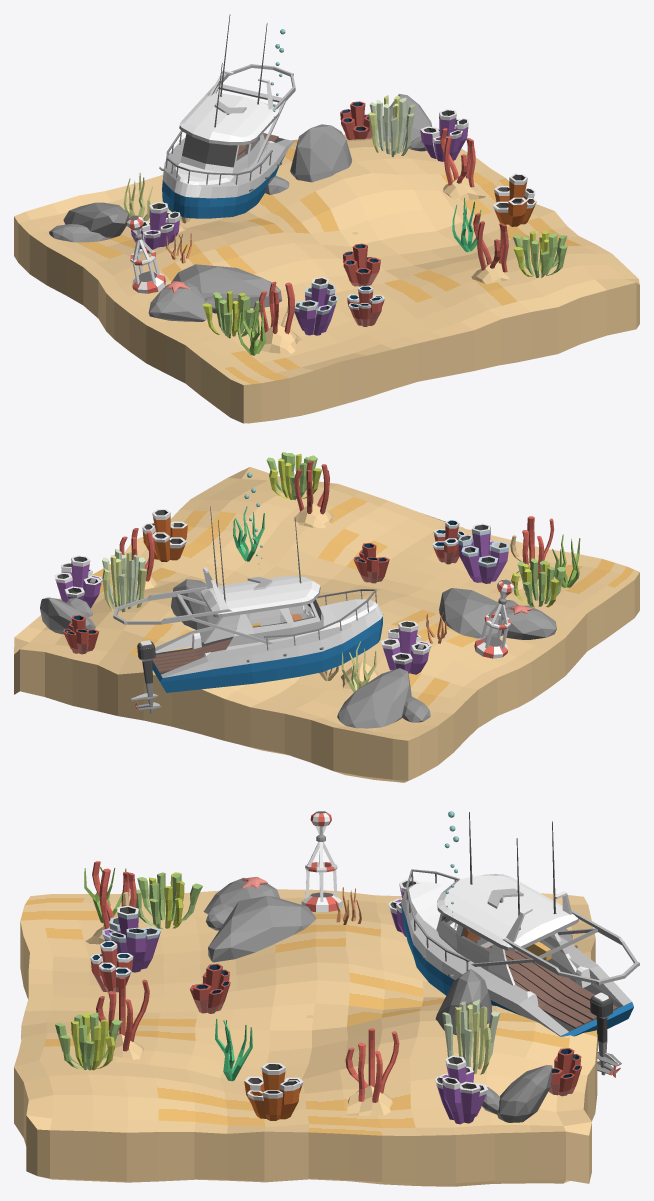
The model's file is land_seabed.fbx.
3 renders of one model, top to bottom at view 1: azimuth 30°, elevation 25°; view 2: azimuth 150°, elevation 25°; view 3: azimuth 270°, elevation 25°, orthographic. The views are drawn at different scales.
Visible parts, largest first — view 1: Ocean_Plane.036, Boat_Plane.013, Ocean_Plane.002, Ocean_Plane.004, Ocean_Plane.005, Cylinder_Cylinder.017; view 2: Ocean_Plane.036, Boat_Plane.013, Ocean_Plane.002, Ocean_Plane.004, Cylinder_Cylinder.017, Ocean_Plane.005; view 3: Ocean_Plane.036, Boat_Plane.013, Ocean_Plane.002, Ocean_Plane.005, Ocean_Plane.004, Cylinder_Cylinder.017.
Part boxes in pixels (box(x1,y1,x2,y2)): Ocean_Plane.036: box(14, 94, 639, 423); Boat_Plane.013: box(159, 14, 295, 218); Ocean_Plane.002: box(148, 264, 282, 321); Ocean_Plane.004: box(493, 173, 536, 226); Ocean_Plane.005: box(440, 128, 485, 200); Cylinder_Cylinder.017: box(127, 215, 165, 293); Ocean_Plane.036: box(14, 452, 639, 782); Boat_Plane.013: box(113, 506, 383, 713); Ocean_Plane.002: box(439, 588, 556, 639); Ocean_Plane.004: box(142, 509, 187, 561); Cylinder_Cylinder.017: box(474, 579, 514, 658); Ocean_Plane.005: box(119, 528, 159, 590); Ocean_Plane.036: box(14, 861, 597, 1186); Boat_Plane.013: box(401, 812, 639, 1077); Ocean_Plane.002: box(203, 877, 316, 962); Ocean_Plane.005: box(345, 1028, 399, 1115); Ocean_Plane.004: box(244, 1063, 303, 1120); Cylinder_Cylinder.017: box(301, 811, 342, 912).
Size of the model in its own units: 15.39 by 8.34 by 16.52.
2 materials, 1 textured.
